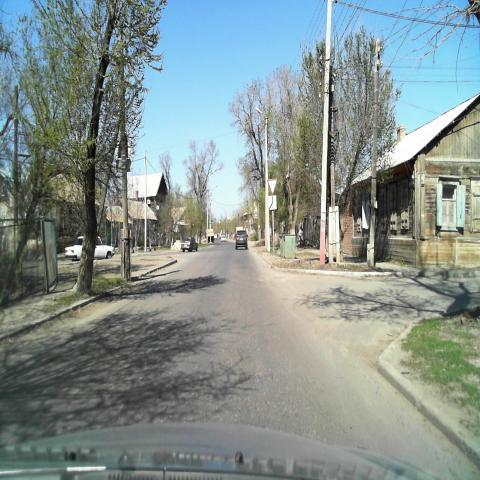8_13: (267, 194, 277, 210)
